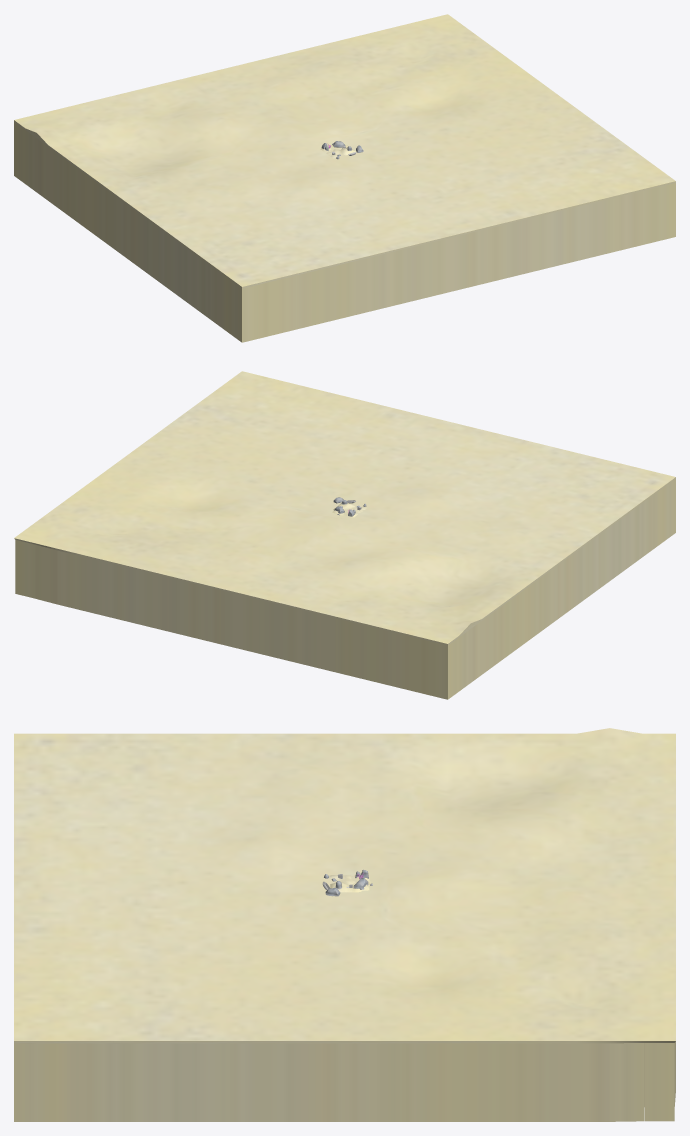
The model's file is stage1.FBX.
3 views of the same model, one above another, from view 1: azimuth 30°, elevation 25°; view 2: azimuth 150°, elevation 25°; view 3: azimuth 270°, elevation 25° (orthographic). The views are drawn at different scales.
Visible parts, largest first — view 1: Box014; view 2: Box014; view 3: Box014.
Part boxes in pixels (x1,y1,x2,y2): Box014: (14,14,675,342); Box014: (14,371,675,699); Box014: (14,728,675,1121).
Size of the model in its own units: 2383 by 2170 by 323.
